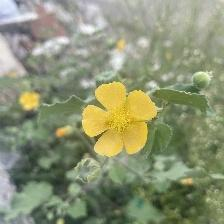indian mallow: (78, 81, 158, 158)
